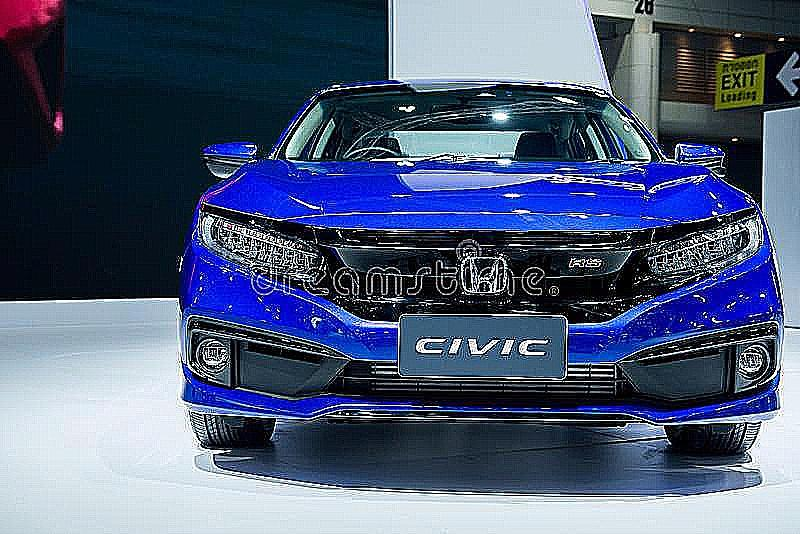Car hood: (200, 152, 762, 236)
Front bumper: (170, 243, 789, 431)
Headlight - -L-: (642, 200, 767, 289)
Headlight - -R-: (190, 199, 331, 287)
Side mirror - -L-: (668, 127, 739, 191)
Side mirror - -R-: (195, 130, 265, 180)
